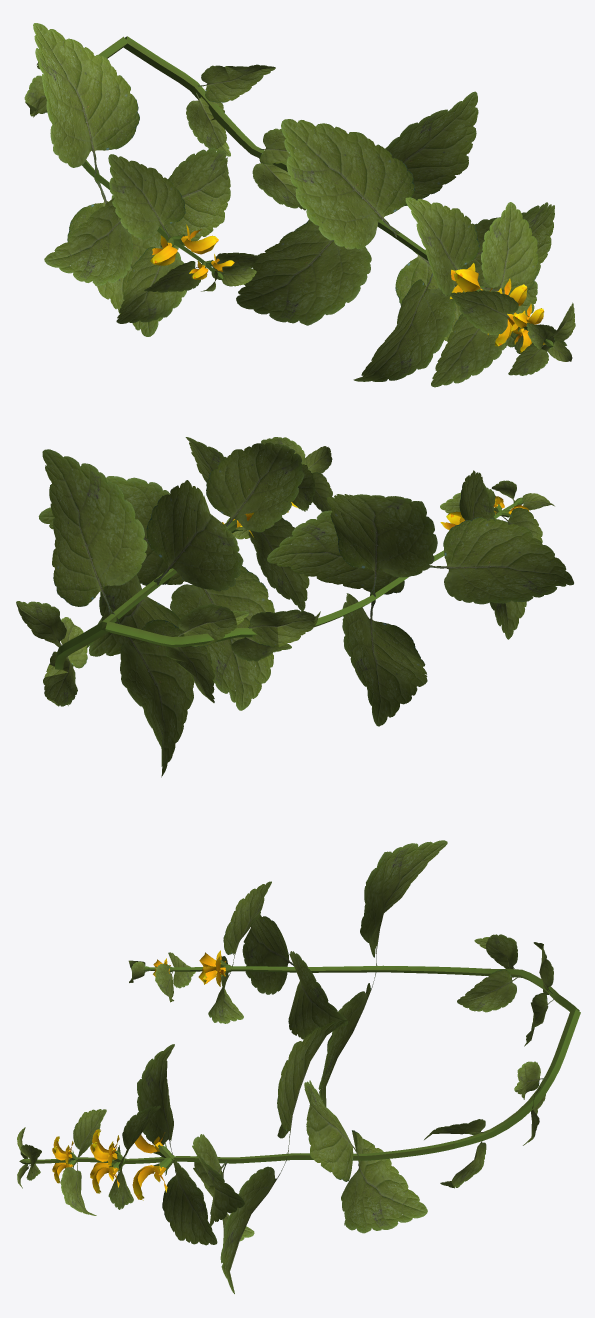
The picture shows the model from 3 angles, top to bottom: view 1: azimuth 30°, elevation 25°; view 2: azimuth 150°, elevation 25°; view 3: azimuth 270°, elevation 25°; orthographic projection. The views are drawn at different scales.
Visible parts, largest first — view 1: GC26_v2; view 2: GC26_v2; view 3: GC26_v2.
Part boxes in pixels (x1=…): GC26_v2: x1=24, y1=23, x2=575, y2=387; GC26_v2: x1=16, y1=437, x2=573, y2=777; GC26_v2: x1=17, y1=840, x2=580, y2=1293.
Bounding box in the file's own units: 1.13 × 0.7466 × 1.19.
8 materials, 8 textured.
